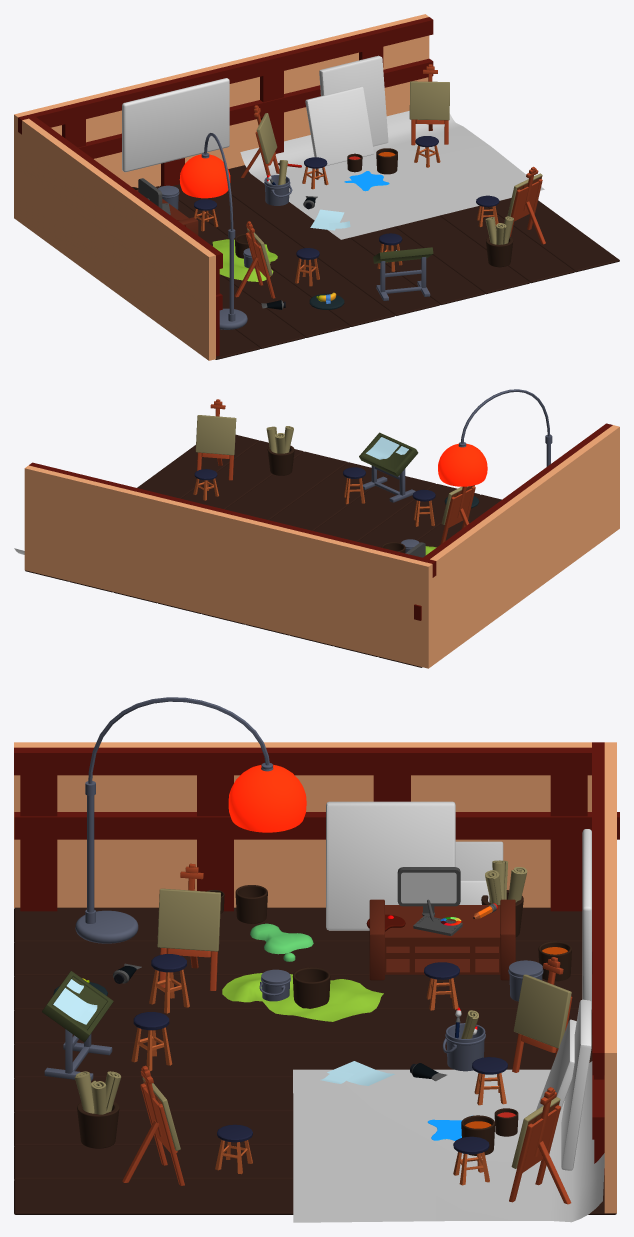
Rendered from art_CR.fbx.
The picture shows the model from 3 angles, top to bottom: view 1: azimuth 30°, elevation 25°; view 2: azimuth 150°, elevation 25°; view 3: azimuth 270°, elevation 25°; orthographic projection. The views are drawn at different scales.
Parts seen in each view (by area): view 1: Plane.037, wall.049, Plane.009, wall.021, Cube.283, wall.019, Cube.280, Fluent_Wire.012, wall.018, Cube.281, wall.020, Plane.008 (+15 smaller); view 2: wall.021, wall.049, Plane.037, Fluent_Wire.012, wall.019, Plane.010, wall.054, Cube.256, Cube.263, Cube.257, Vert.008, Cylinder.021 (+3 smaller); view 3: Plane.037, Plane.009, wall.049, wall.054, wall.053, Cube.286, wall.055, Fluent_Wire.012, wall.021, Cube.267, wall.019, Plane.003 (+32 smaller).
Boxes of the visible parts, x1,y1,x2,y2 form: Plane.037: (156,165,619,359); wall.049: (18,118,215,360); Plane.009: (240,111,544,239); wall.021: (14,14,429,220); Cube.283: (122,78,229,172); wall.019: (18,17,433,134); Cube.280: (305,86,373,165); Fluent_Wire.012: (179,133,247,329); wall.018: (78,58,433,158); Cube.281: (319,55,388,146); wall.020: (62,47,383,186); Plane.008: (409,81,449,120); wall.021: (24,465,432,668); wall.049: (430,425,619,665); Plane.037: (25,434,501,667); Fluent_Wire.012: (438,389,552,486); wall.019: (29,462,436,577); Plane.010: (195,415,236,455); wall.054: (423,423,612,559); Cube.256: (359,432,418,476); Cube.263: (440,486,475,544); Cube.257: (362,465,415,502); Vert.008: (267,445,294,475); Cylinder.021: (412,489,435,526); Plane.037: (14,907,616,1214); Plane.009: (293,1061,604,1222); wall.049: (14,742,591,907); wall.054: (14,747,591,775); wall.053: (20,775,587,911); Cube.286: (326,801,455,930); wall.055: (14,812,619,839); Fluent_Wire.012: (75,697,306,943); wall.021: (604,742,616,1213); Cube.267: (385,905,500,974); wall.019: (592,742,604,1075); Plane.003: (157,888,220,951).
Bounding box in the file's own units: 1235 × 979 × 456.
